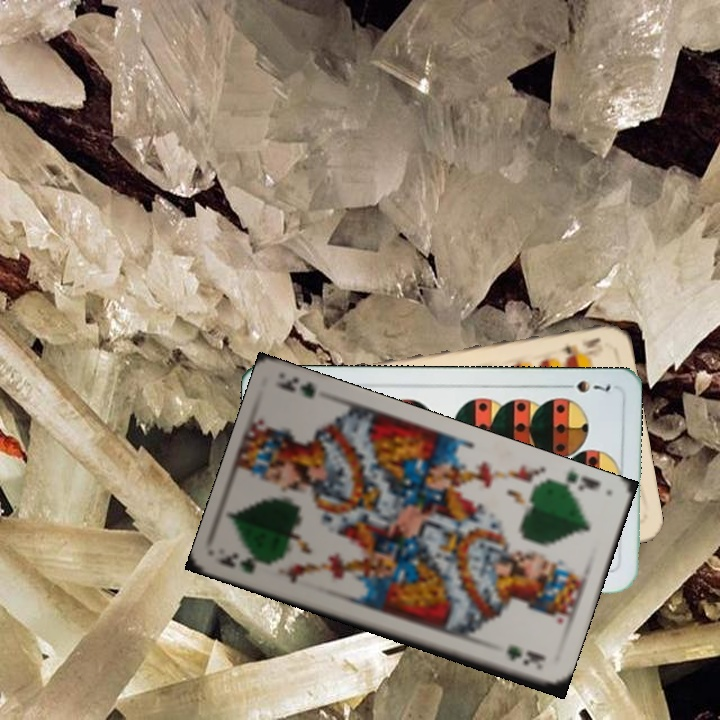E10: (557, 334, 603, 357)
GK: (548, 466, 604, 496), (214, 549, 274, 576)
S7: (556, 377, 613, 396)
